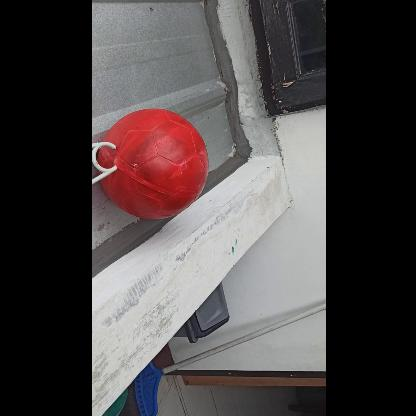red_ball: (98, 108, 209, 218)
